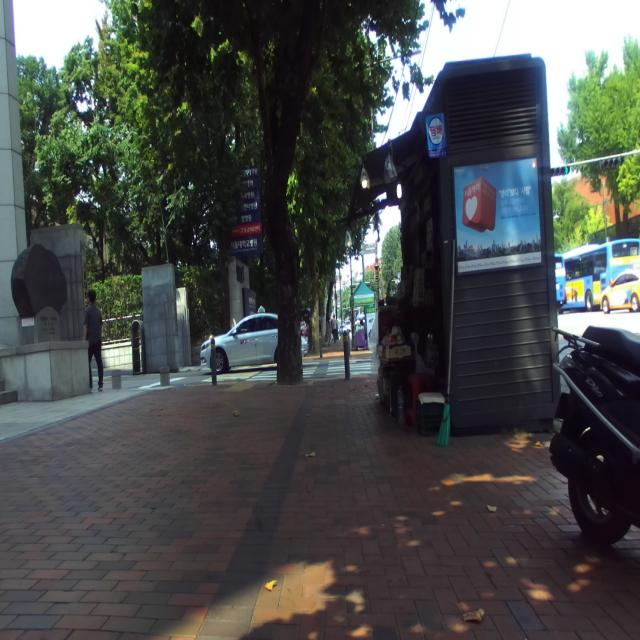횡단보도: (246, 357, 380, 381)
